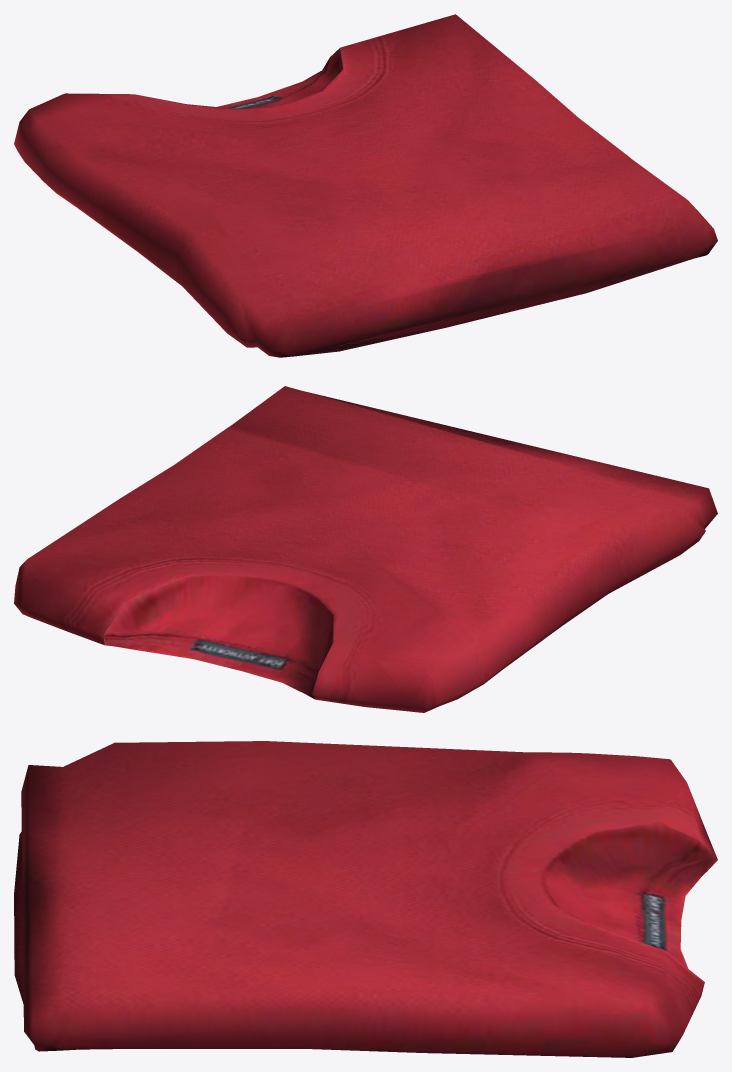
The model's file is TShirt_Folded_Red.fbx.
3 views of the same model, one above another, from view 1: azimuth 30°, elevation 25°; view 2: azimuth 150°, elevation 25°; view 3: azimuth 270°, elevation 25° (orthographic). The views are drawn at different scales.
Parts seen in each view (by area): view 1: TShirt_Folded_Red; view 2: TShirt_Folded_Red; view 3: TShirt_Folded_Red.
Part boxes in pixels (x1,y1,x2,y2): TShirt_Folded_Red: (14, 14, 717, 357); TShirt_Folded_Red: (14, 386, 717, 712); TShirt_Folded_Red: (14, 741, 717, 1057).
Bounding box in the file's own units: 0.4585 × 0.056 × 0.5042.
